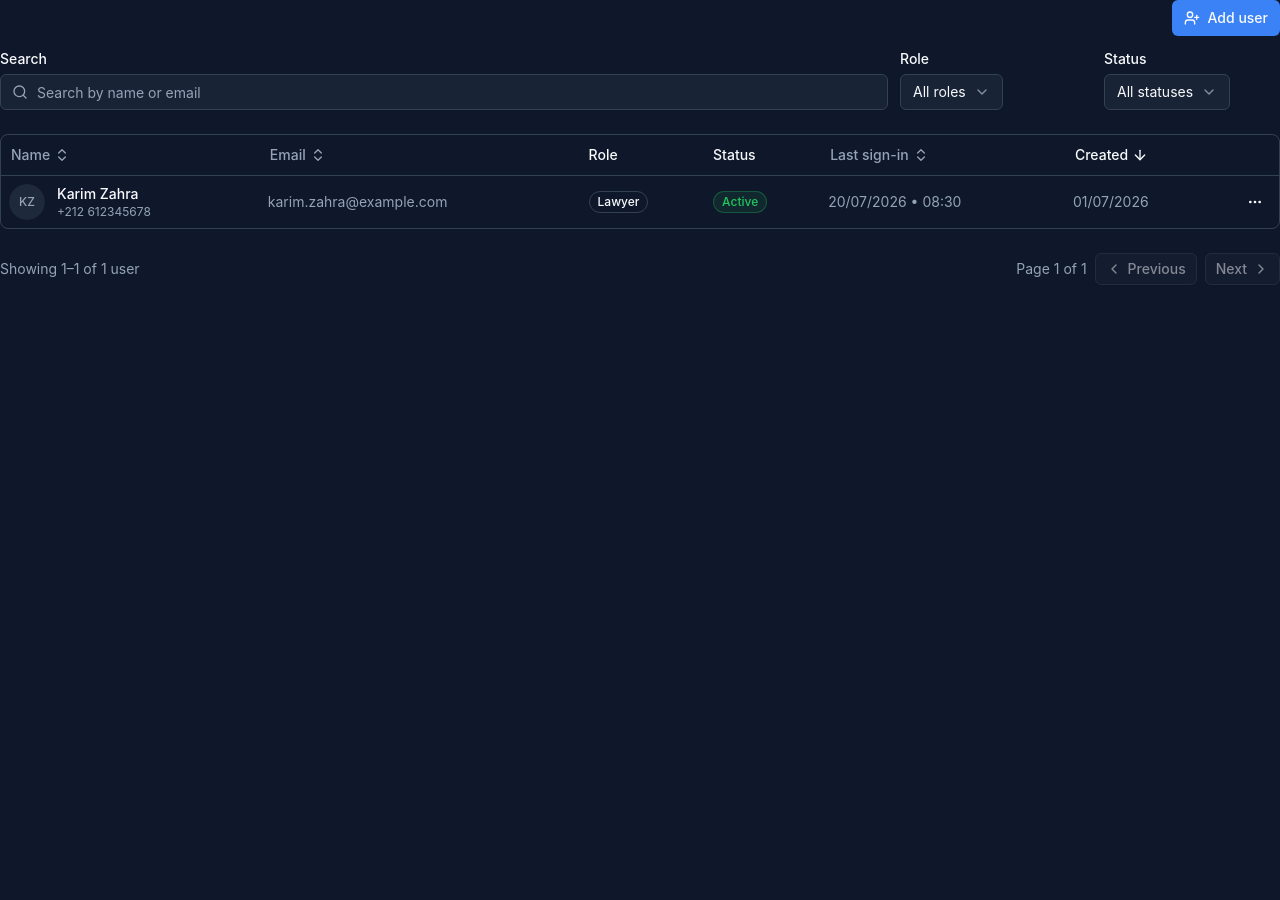
Test: row actions › opens the edit dialog on the chosen row
The image size is (1280, 900).
Check: the link "Karim Zahra" is shown, box [57,184,151,204]
Click the button named "Actions for Karim Zahra": (1255, 202) [1239,186,1271,218]
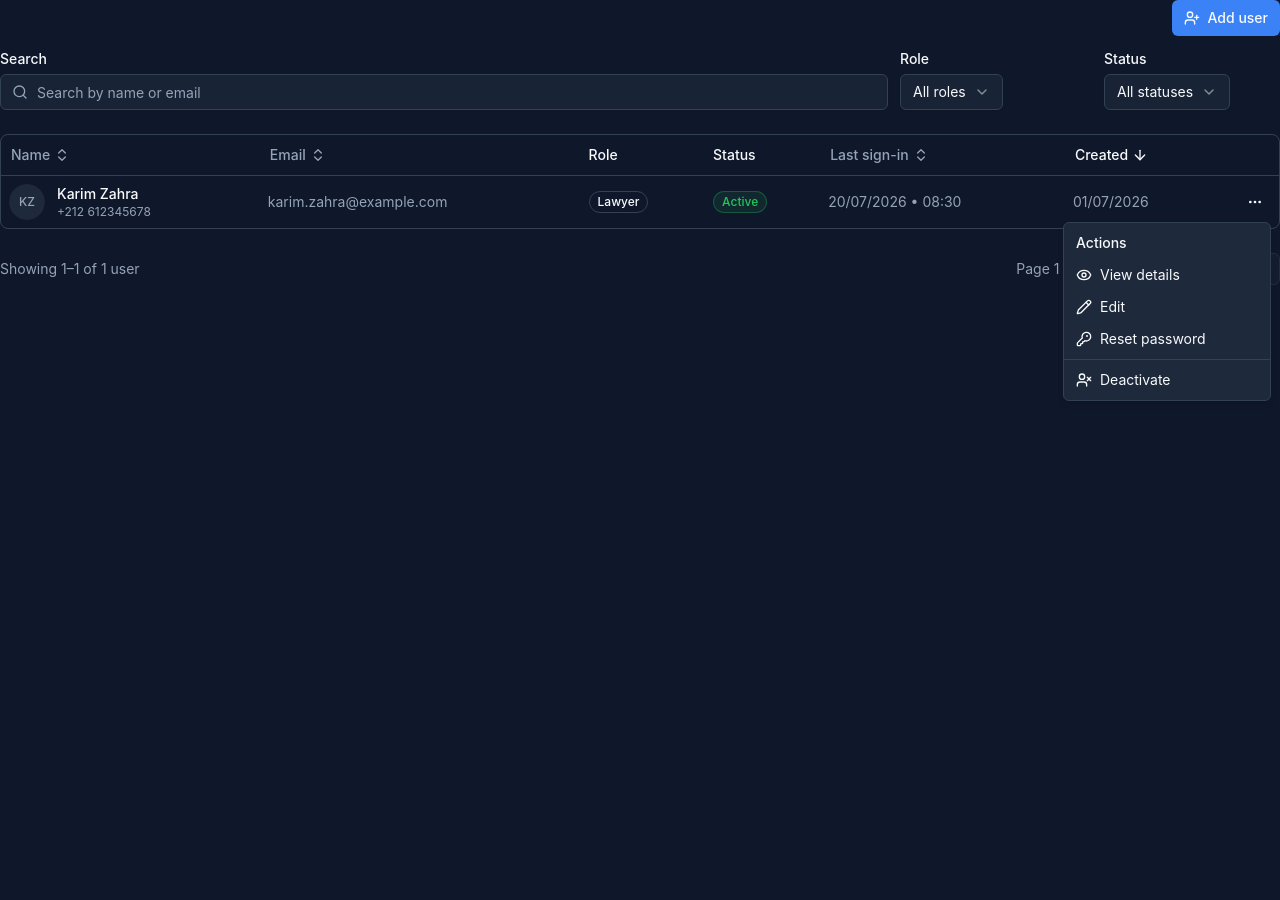
Click the menu item "Edit": (1100, 306) [1076,298,1125,315]
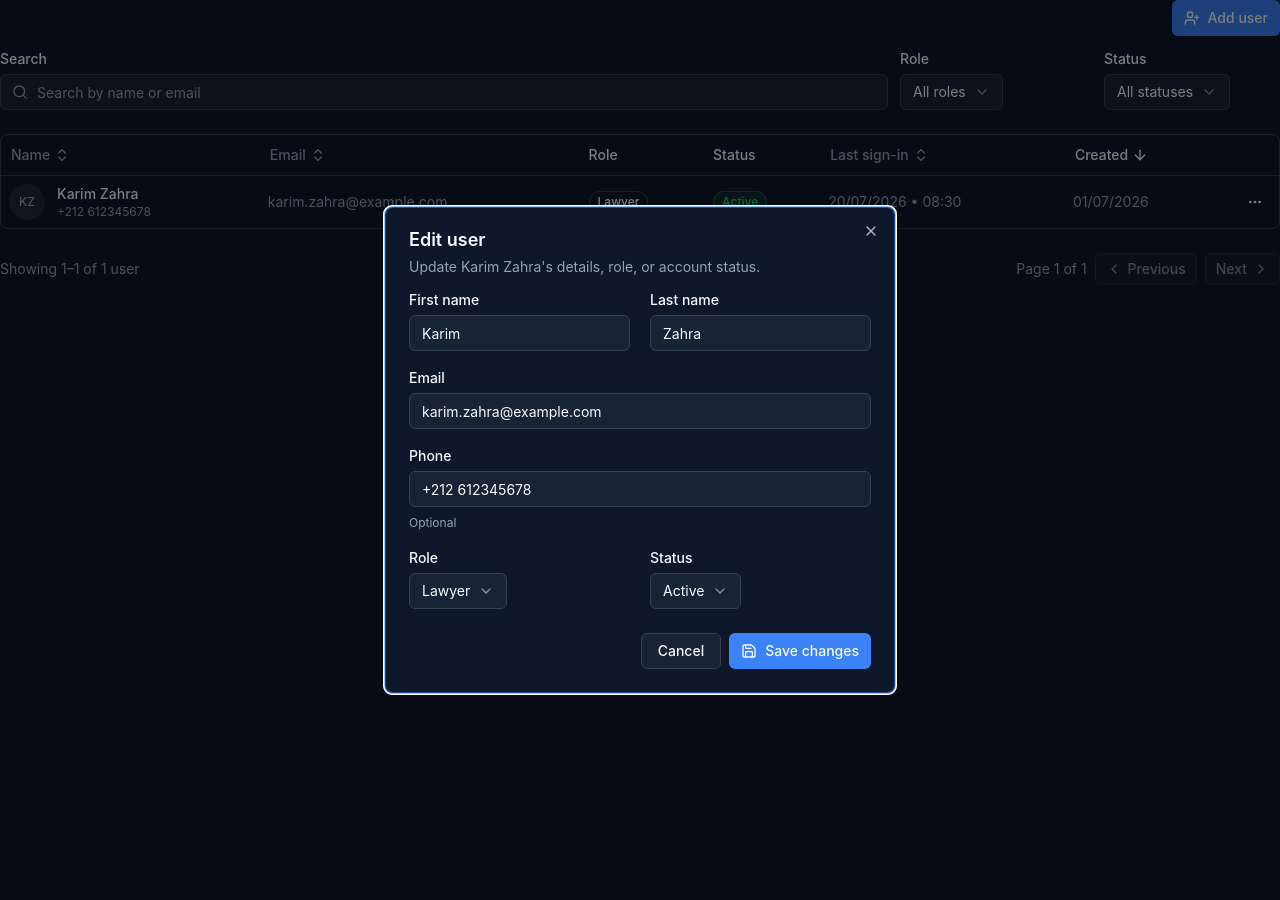
Check: the heading "Edit user" is shown, box [409,229,485,250]
Check: the field labelled "First name" holds "Karim", box [409,315,630,351]
